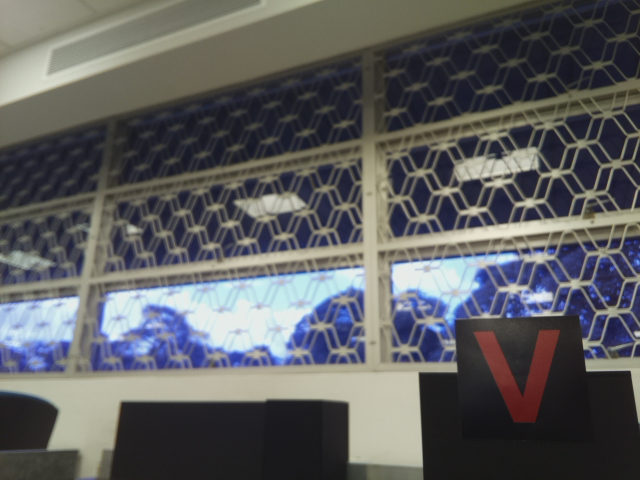v: (463, 321, 579, 439)
